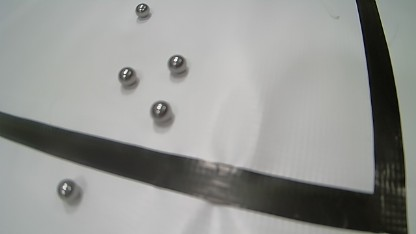ironball: (57, 179, 80, 203), (150, 101, 173, 122), (168, 54, 187, 74), (118, 66, 137, 86), (135, 3, 149, 18)
